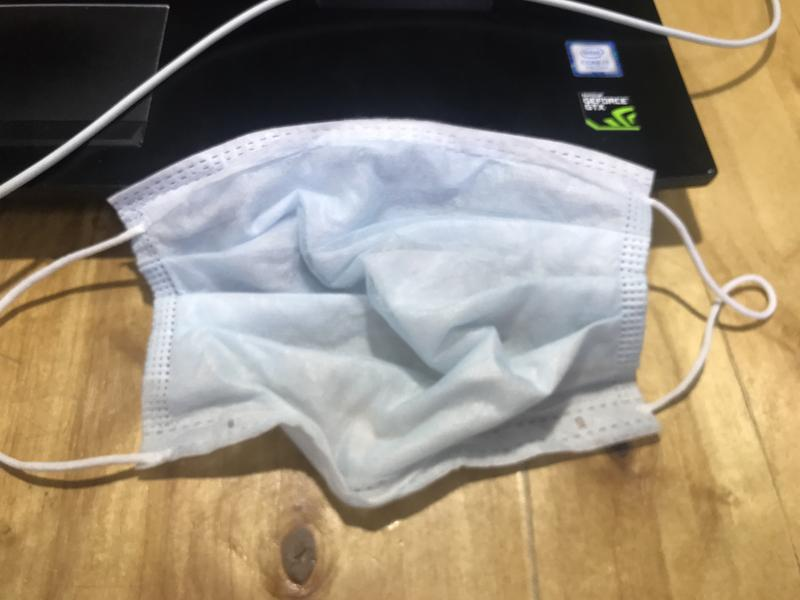medical_mask: (1, 117, 778, 505)
